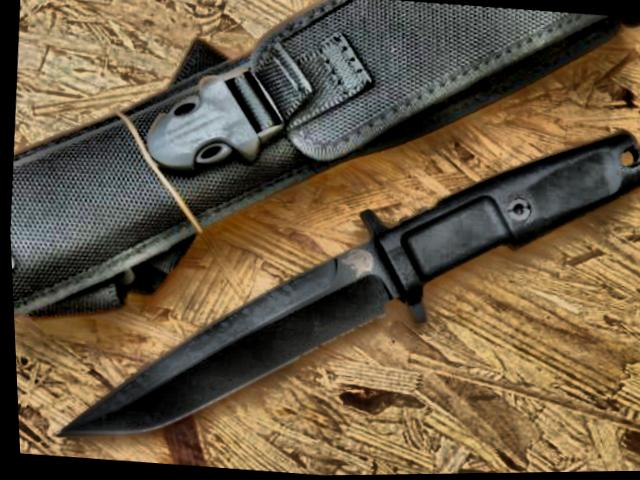knife: (36, 178, 442, 472)
